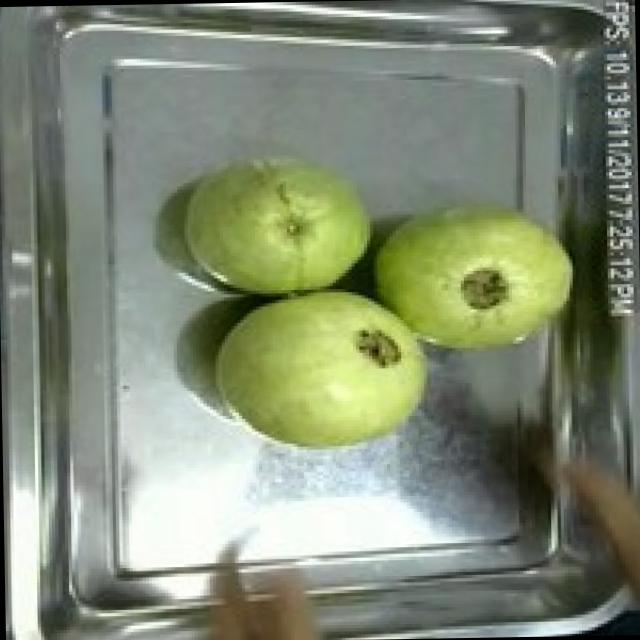Fruit: (205, 276, 438, 459), (360, 190, 590, 368), (176, 140, 384, 306)
